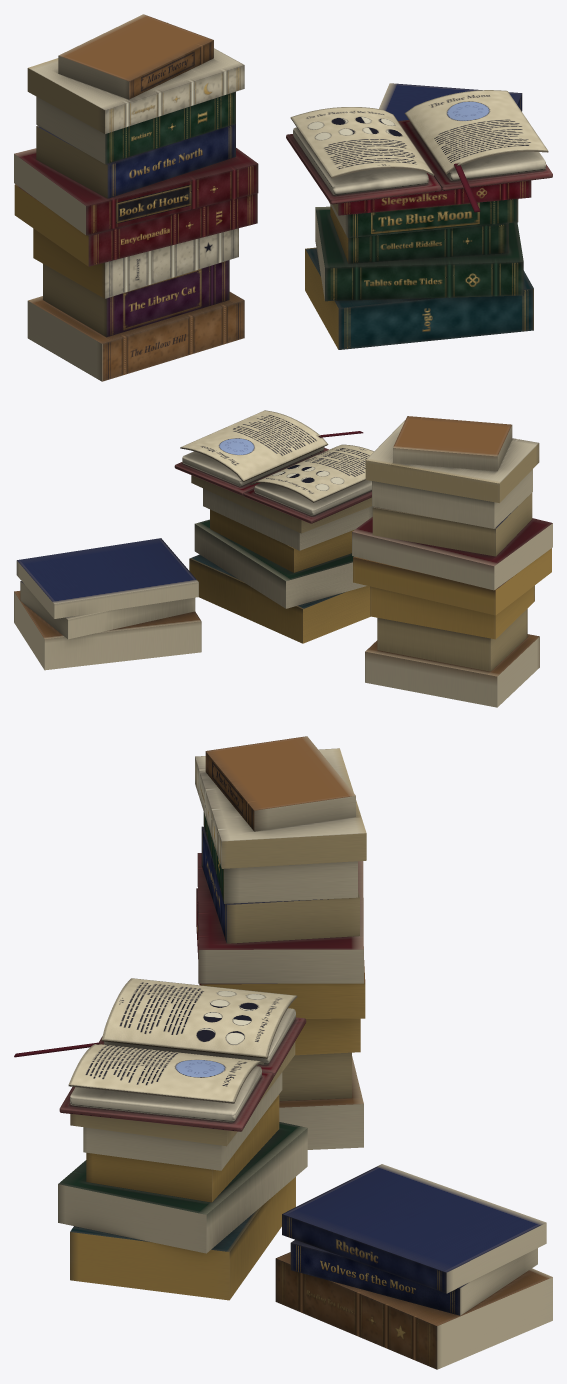
File: BookPile.fbx
3 renders of one model, top to bottom at view 1: azimuth 30°, elevation 25°; view 2: azimuth 150°, elevation 25°; view 3: azimuth 270°, elevation 25°, orthographic. The views are drawn at different scales.
Parts seen in each view (by area): view 1: BookPile; view 2: BookPile; view 3: BookPile.
Part boxes in pixels (x1=…): BookPile: x1=14, y1=14, x2=552, y2=381; BookPile: x1=14, y1=410, x2=552, y2=707; BookPile: x1=14, y1=736, x2=552, y2=1369.
Bounding box in the file's own units: 413 × 207 × 303.
